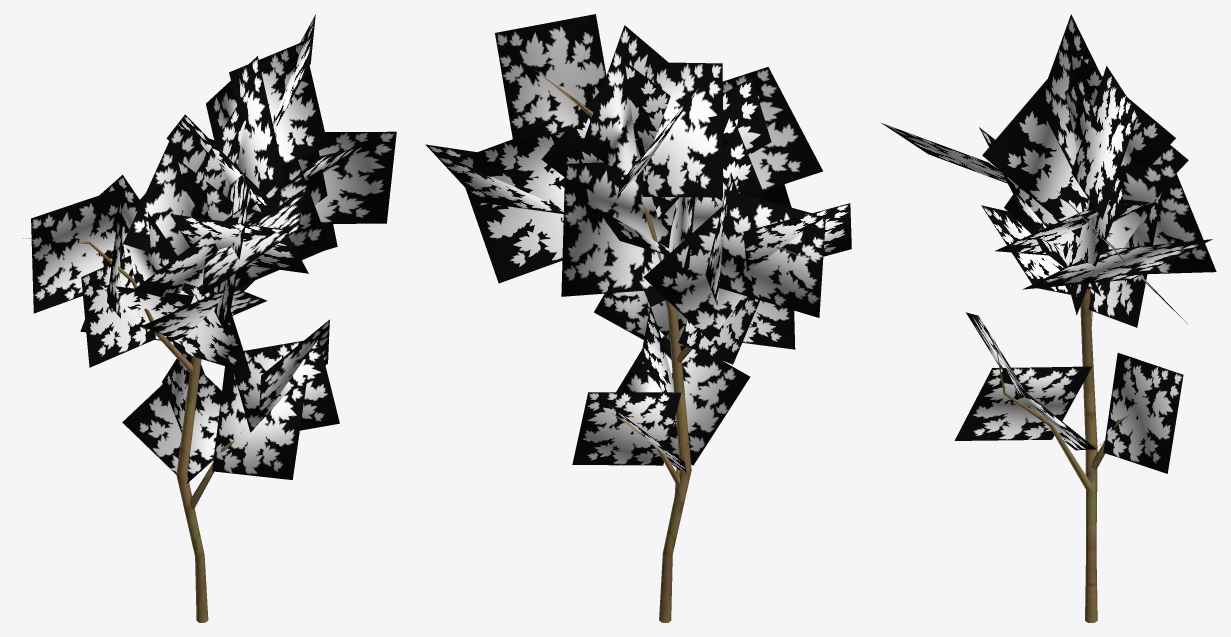
File: P_RedMapleSapling02.obj
The picture shows the model from 3 angles, left to right: view 1: azimuth 30°, elevation 25°; view 2: azimuth 150°, elevation 25°; view 3: azimuth 270°, elevation 25°; orthographic projection. The views are drawn at different scales.
Bounding box in the file's own units: 4.26 × 5.74 × 2.92.
